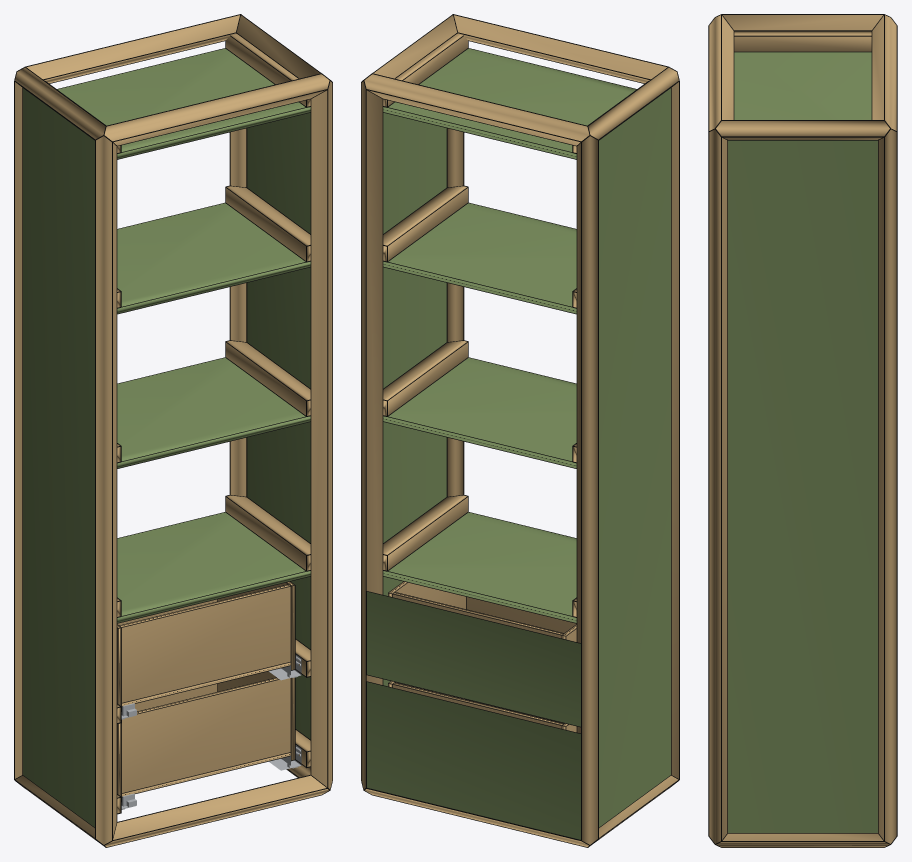
Rendered from 007-dressing.glb.
The picture shows the model from 3 angles, left to right: view 1: azimuth 30°, elevation 25°; view 2: azimuth 150°, elevation 25°; view 3: azimuth 270°, elevation 25°; orthographic projection.
Parts seen in each view (by area): view 1: panneau-joue1, panneau-joue2, arete-Z1, arete-Z0, drawer-box-avant-mod-5, drawer-box-avant-mod-4, tablette-plate-mod-2, tablette-plate-mod-0, tablette-plate-mod-1, tablette-plate-mod-3, arete-Z2, arete-X2 (+24 smaller); view 2: panneau-joue1, drawer-box-facade-mod-4, drawer-box-facade-mod-5, panneau-joue2, arete-Z2, tablette-plate-mod-2, tablette-plate-mod-0, tablette-plate-mod-1, arete-Z3, tablette-plate-mod-3, arete-Z0, arete-X3 (+26 smaller); view 3: panneau-joue2, arete-Z1, arete-Z3, tablette-plate-mod-3, arete-Y3, tablette-traverse-left-mod-3, arete-Y2, arete-X2, arete-X3, arete-Y1, arete-wire-Z1, arete-wire-Z3 (+6 smaller).
Part boxes in pixels (x1=…): panneau-joue1: x1=23, y1=88, x2=94, y2=827; panneau-joue2: x1=247, y1=112, x2=310, y2=739; arete-Z1: x1=311, y1=81, x2=332, y2=789; arete-Z0: x1=96, y1=136, x2=116, y2=844; drawer-box-avant-mod-5: x1=120, y1=584, x2=290, y2=702; drawer-box-avant-mod-4: x1=122, y1=678, x2=290, y2=792; tablette-plate-mod-2: x1=117, y1=203, x2=310, y2=313; tablette-plate-mod-0: x1=117, y1=512, x2=310, y2=622; tablette-plate-mod-1: x1=117, y1=357, x2=310, y2=468; tablette-plate-mod-3: x1=57, y1=48, x2=310, y2=158; arete-Z2: x1=15, y1=82, x2=22, y2=778; arete-X2: x1=104, y1=74, x2=329, y2=145; panneau-joue1: x1=599, y1=88, x2=670, y2=827; drawer-box-facade-mod-4: x1=367, y1=682, x2=580, y2=839; drawer-box-facade-mod-5: x1=367, y1=591, x2=580, y2=726; panneau-joue2: x1=383, y1=112, x2=446, y2=686; arete-Z2: x1=577, y1=136, x2=597, y2=844; tablette-plate-mod-2: x1=383, y1=203, x2=576, y2=313; tablette-plate-mod-0: x1=383, y1=512, x2=576, y2=622; tablette-plate-mod-1: x1=383, y1=357, x2=576, y2=468; arete-Z3: x1=361, y1=81, x2=382, y2=789; tablette-plate-mod-3: x1=383, y1=48, x2=636, y2=158; arete-Z0: x1=671, y1=82, x2=678, y2=778; arete-X3: x1=364, y1=74, x2=589, y2=145; panneau-joue2: x1=728, y1=140, x2=877, y2=832; arete-Z1: x1=709, y1=129, x2=727, y2=843; arete-Z3: x1=878, y1=129, x2=896, y2=843; tablette-plate-mod-3: x1=734, y1=52, x2=871, y2=119; arete-Y3: x1=716, y1=121, x2=889, y2=139; tablette-traverse-left-mod-3: x1=734, y1=32, x2=871, y2=51; arete-Y2: x1=723, y1=15, x2=882, y2=32; arete-X2: x1=709, y1=15, x2=733, y2=130; arete-X3: x1=872, y1=15, x2=896, y2=130; arete-Y1: x1=716, y1=833, x2=889, y2=847; arete-wire-Z1: x1=708, y1=128, x2=727, y2=841; arete-wire-Z3: x1=884, y1=132, x2=897, y2=841.
Size of the model in its own units: 0.6309 by 1.83 by 0.4309.
